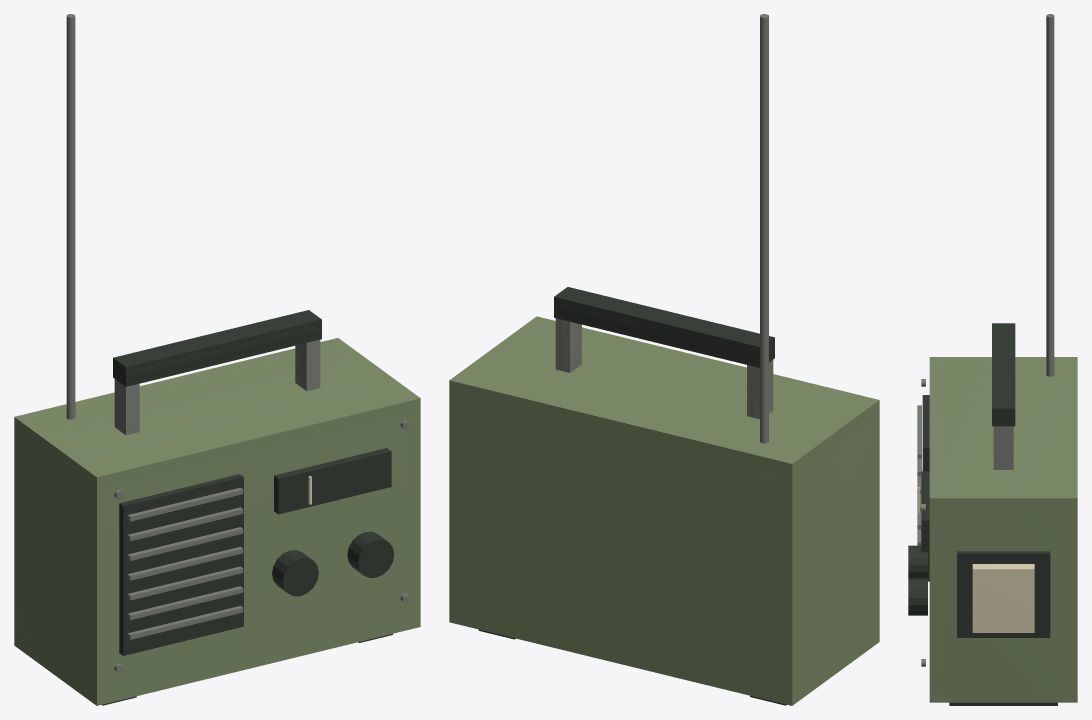
Rendered from FieldRadio.glb.
The picture shows the model from 3 angles, left to right: view 1: azimuth 30°, elevation 25°; view 2: azimuth 150°, elevation 25°; view 3: azimuth 270°, elevation 25°; orthographic projection. The views are drawn at different scales.
Parts seen in each view (by area): view 1: LOD1_RadioPaint, LOD0_RadioPaint, LOD1_RadioDark, LOD0_RadioDark, LOD0_GearSteel, LOD1_GearSteel; view 2: LOD1_RadioPaint, LOD0_RadioPaint, LOD1_RadioDark, LOD0_GearSteel, LOD0_RadioDark, LOD1_GearSteel; view 3: LOD0_RadioPaint, LOD1_RadioPaint, LOD1_RadioDark, LOD0_RadioDark, LOD0_GearSteel, LOD0_GearMark, LOD1_GearSteel, LOD1_GearMark.
Part boxes in pixels (left/top/right/bottom): LOD1_RadioPaint: left=14, top=338, right=420, bottom=705; LOD0_RadioPaint: left=21, top=346, right=408, bottom=667; LOD1_RadioDark: left=102, top=310, right=393, bottom=705; LOD0_RadioDark: left=116, top=314, right=394, bottom=651; LOD0_GearSteel: left=66, top=14, right=410, bottom=673; LOD1_GearSteel: left=67, top=14, right=320, bottom=639; LOD1_RadioPaint: left=449, top=316, right=879, bottom=705; LOD0_RadioPaint: left=462, top=325, right=872, bottom=689; LOD1_RadioDark: left=478, top=287, right=786, bottom=705; LOD0_GearSteel: left=559, top=14, right=768, bottom=443; LOD0_RadioDark: left=558, top=303, right=772, bottom=361; LOD1_GearSteel: left=555, top=14, right=773, bottom=415; LOD0_RadioPaint: left=942, top=362, right=1064, bottom=691; LOD1_RadioPaint: left=929, top=357, right=1077, bottom=702; LOD1_RadioDark: left=921, top=323, right=1057, bottom=705; LOD0_RadioDark: left=908, top=328, right=1054, bottom=703; LOD0_GearSteel: left=918, top=14, right=1054, bottom=666; LOD0_GearMark: left=918, top=491, right=1033, bottom=631; LOD1_GearSteel: left=917, top=14, right=1052, bottom=545; LOD1_GearMark: left=917, top=487, right=1034, bottom=632.
Bounding box in the file's own units: 0.453 × 0.815 × 0.2175.
